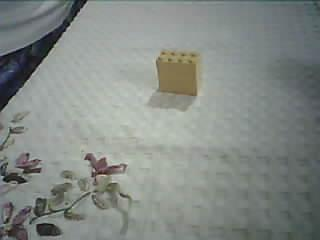lego: (154, 48, 204, 97)
